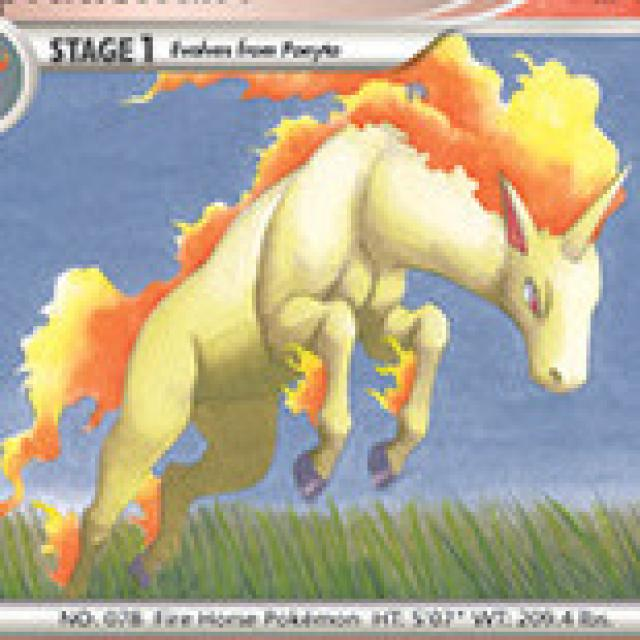Rapidash: (78, 64, 624, 494)
